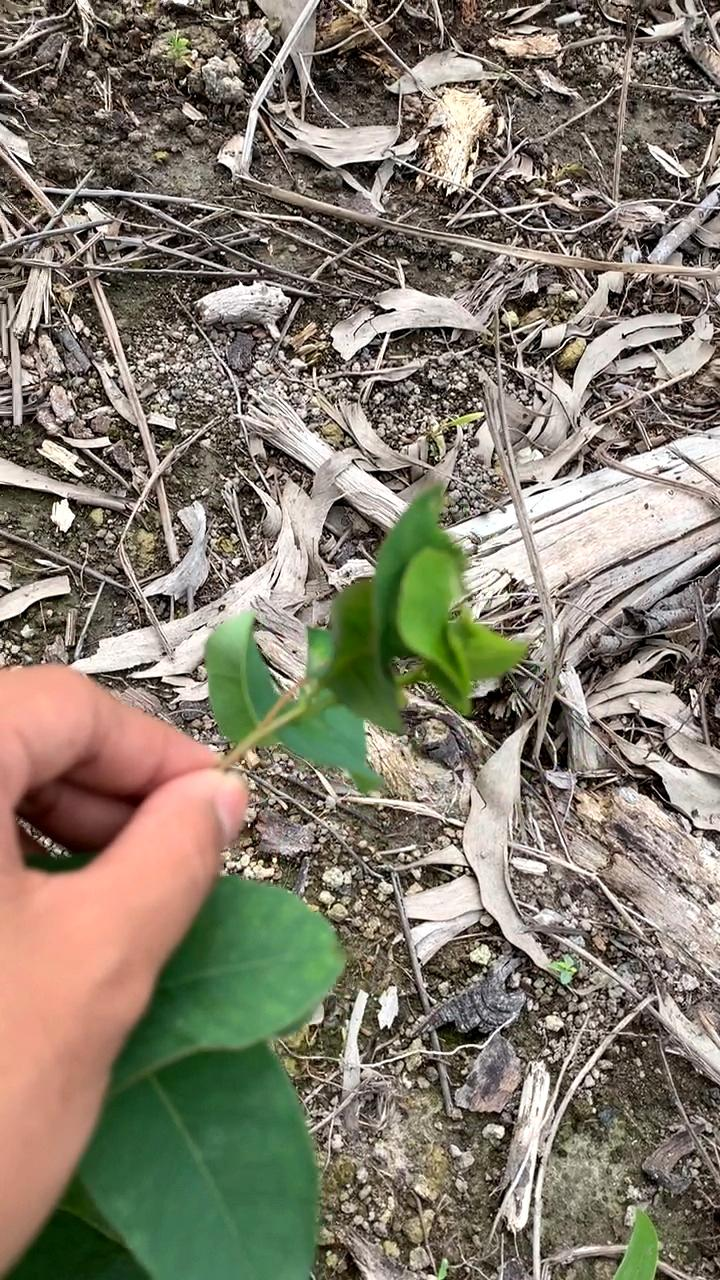Leaf Roller - Leaf: (287, 476, 560, 772)
